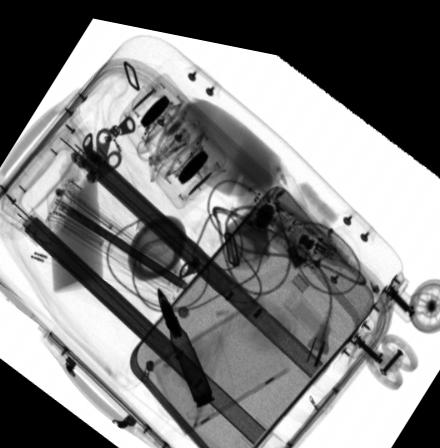Bullet: (157, 279, 215, 400)
